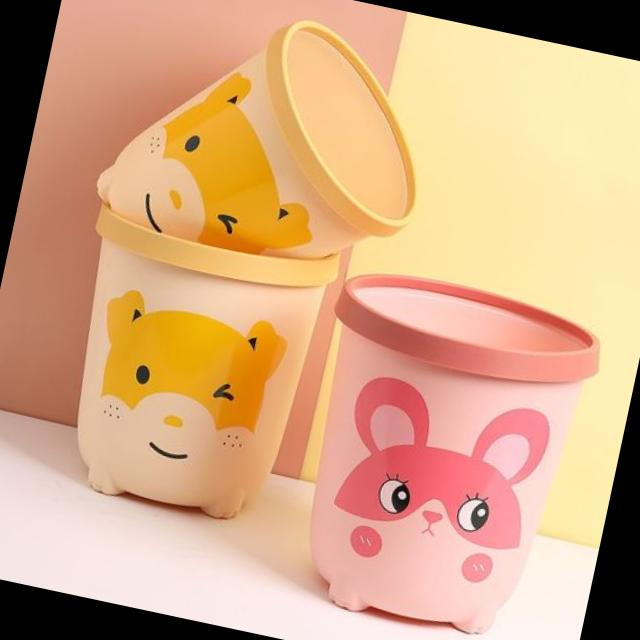dustbin: (273, 255, 613, 640), (40, 199, 343, 541), (87, 0, 451, 282)
